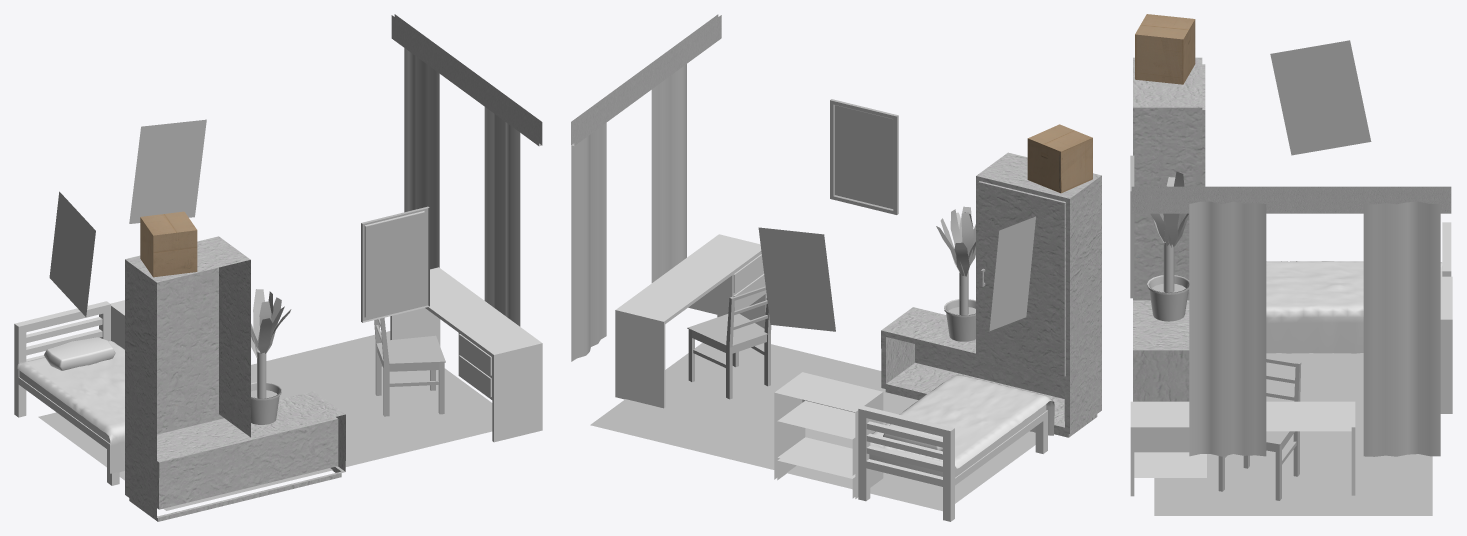
File: Playerroom.fbx
3 views of the same model, side by side, from view 1: azimuth 30°, elevation 25°; view 2: azimuth 150°, elevation 25°; view 3: azimuth 270°, elevation 25° (orthographic). The views are drawn at different scales.
Visible parts, largest first — view 1: apartments_wardrobe, apartments_curtains, apartments_carpet, apartments_bed, apartments_table, apartments_posters, apartments_painting, apartments_chair, apartments_box, apartments_plant, apartments_plantpot, apartments_bedtable; view 2: apartments_wardrobe, apartments_carpet, apartments_curtains, apartments_bed, apartments_table, apartments_posters, apartments_bedtable, apartments_painting, apartments_chair, apartments_box, apartments_plant, apartments_plantpot; view 3: apartments_curtains, apartments_carpet, apartments_wardrobe, apartments_bed, apartments_posters, apartments_table, apartments_box, apartments_chair, apartments_bedtable, apartments_plant, apartments_plantpot, apartments_painting.
Part boxes in pixels (bbox=[...]): apartments_wardrobe: bbox=[125, 236, 345, 521]; apartments_curtains: bbox=[391, 14, 542, 326]; apartments_carpet: bbox=[38, 331, 492, 510]; apartments_bed: bbox=[14, 301, 124, 485]; apartments_table: bbox=[390, 267, 542, 442]; apartments_posters: bbox=[49, 119, 206, 316]; apartments_painting: bbox=[361, 206, 429, 322]; apartments_chair: bbox=[374, 317, 445, 416]; apartments_box: bbox=[140, 211, 197, 277]; apartments_plant: bbox=[251, 289, 291, 398]; apartments_plantpot: bbox=[251, 382, 281, 424]; apartments_bedtable: bbox=[110, 300, 124, 349]; apartments_wardrobe: bbox=[881, 152, 1101, 437]; apartments_carpet: bbox=[590, 342, 1048, 511]; apartments_curtains: bbox=[571, 14, 721, 361]; apartments_bed: bbox=[858, 375, 1054, 521]; apartments_table: bbox=[615, 234, 766, 408]; apartments_posters: bbox=[758, 216, 1035, 331]; apartments_bedtable: bbox=[774, 372, 883, 498]; apartments_painting: bbox=[830, 99, 898, 214]; apartments_chair: bbox=[687, 286, 771, 399]; apartments_box: bbox=[1027, 124, 1092, 193]; apartments_plant: bbox=[936, 206, 975, 315]; apartments_plantpot: bbox=[944, 299, 975, 341]; apartments_curtains: bbox=[1131, 186, 1451, 456]; apartments_carpet: bbox=[1154, 353, 1432, 515]; apartments_wardrobe: bbox=[1133, 57, 1205, 401]; apartments_bed: bbox=[1266, 222, 1451, 353]; apartments_posters: bbox=[1270, 40, 1371, 155]; apartments_table: bbox=[1130, 401, 1355, 496]; apartments_box: bbox=[1135, 14, 1195, 84]; apartments_chair: bbox=[1218, 358, 1301, 500]; apartments_bedtable: bbox=[1440, 276, 1452, 413]; apartments_plant: bbox=[1150, 171, 1189, 292]; apartments_plantpot: bbox=[1147, 275, 1189, 321]; apartments_painting: bbox=[1130, 155, 1134, 298].
Bounding box in the file's own units: 351 × 267 × 231.
